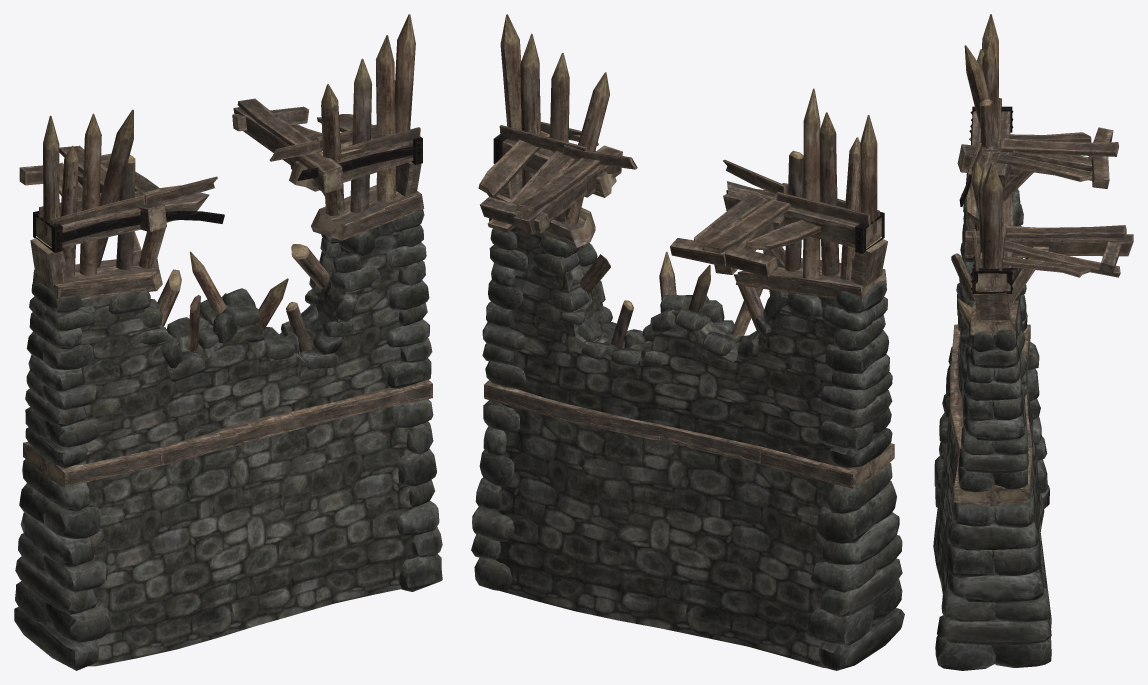
Rendered from jav_struc_def_stone_t2_wall_brkn_a-transformed.glb.
The picture shows the model from 3 angles, left to right: view 1: azimuth 30°, elevation 25°; view 2: azimuth 150°, elevation 25°; view 3: azimuth 270°, elevation 25°; orthographic projection. The views are drawn at different scales.
Parts seen in each view (by area): view 1: default; view 2: default; view 3: default.
Part boxes in pixels (x1=…): default: x1=14, y1=14, x2=442, y2=670; default: x1=471, y1=14, x2=904, y2=670; default: x1=933, y1=14, x2=1133, y2=670.
Bounding box in the file's own units: 8.27 × 11.48 × 4.12.
Materials: 3 (3 with a texture image).
